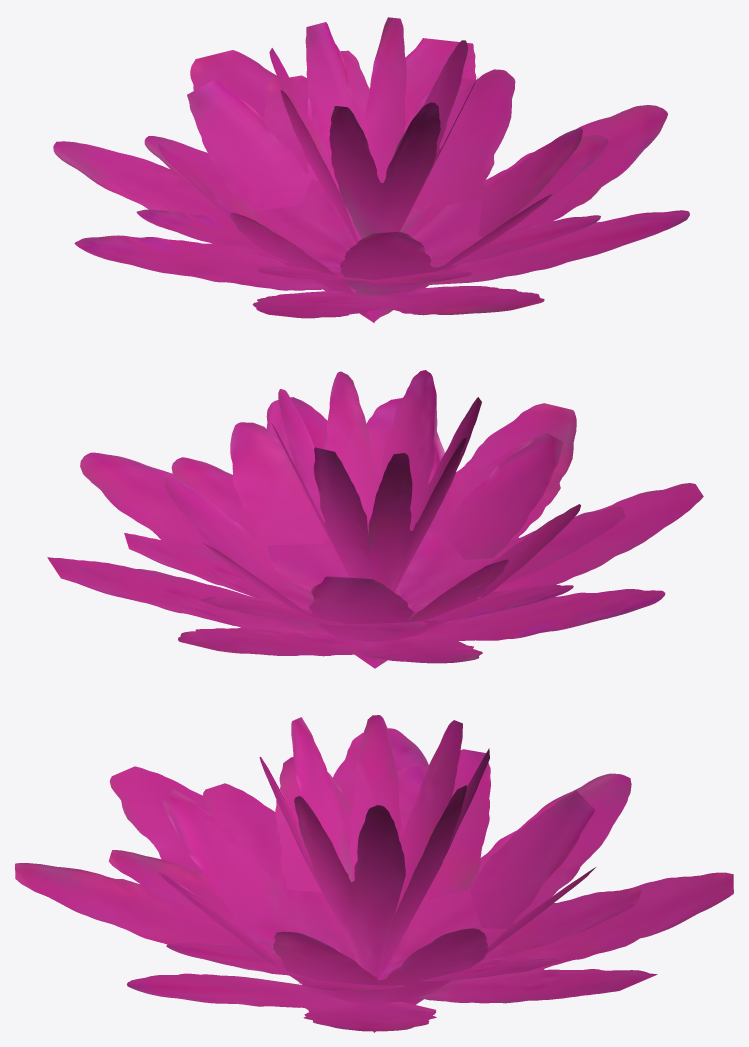
The model's file is Lilia_pojedyncza_roz-transformed.glb.
3 views of the same model, one above another, from view 1: azimuth 30°, elevation 25°; view 2: azimuth 150°, elevation 25°; view 3: azimuth 270°, elevation 25° (orthographic). The views are drawn at different scales.
Visible parts, largest first — view 1: waterPlant_wattaPlanto_matsy_0; view 2: waterPlant_wattaPlanto_matsy_0; view 3: waterPlant_wattaPlanto_matsy_0.
Boxes of the visible parts, x1,y1,x2,y2 form: waterPlant_wattaPlanto_matsy_0: (53,17,689,322); waterPlant_wattaPlanto_matsy_0: (47,370,703,668); waterPlant_wattaPlanto_matsy_0: (15,715,733,1032).
Bounding box in the file's own units: 0.3956 × 0.1682 × 0.3956.
Materials: 1 (1 with a texture image).
